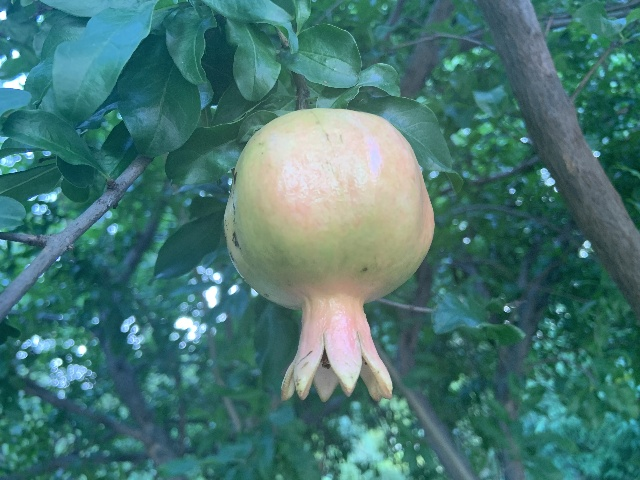mid-growth: (225, 108, 436, 405)
